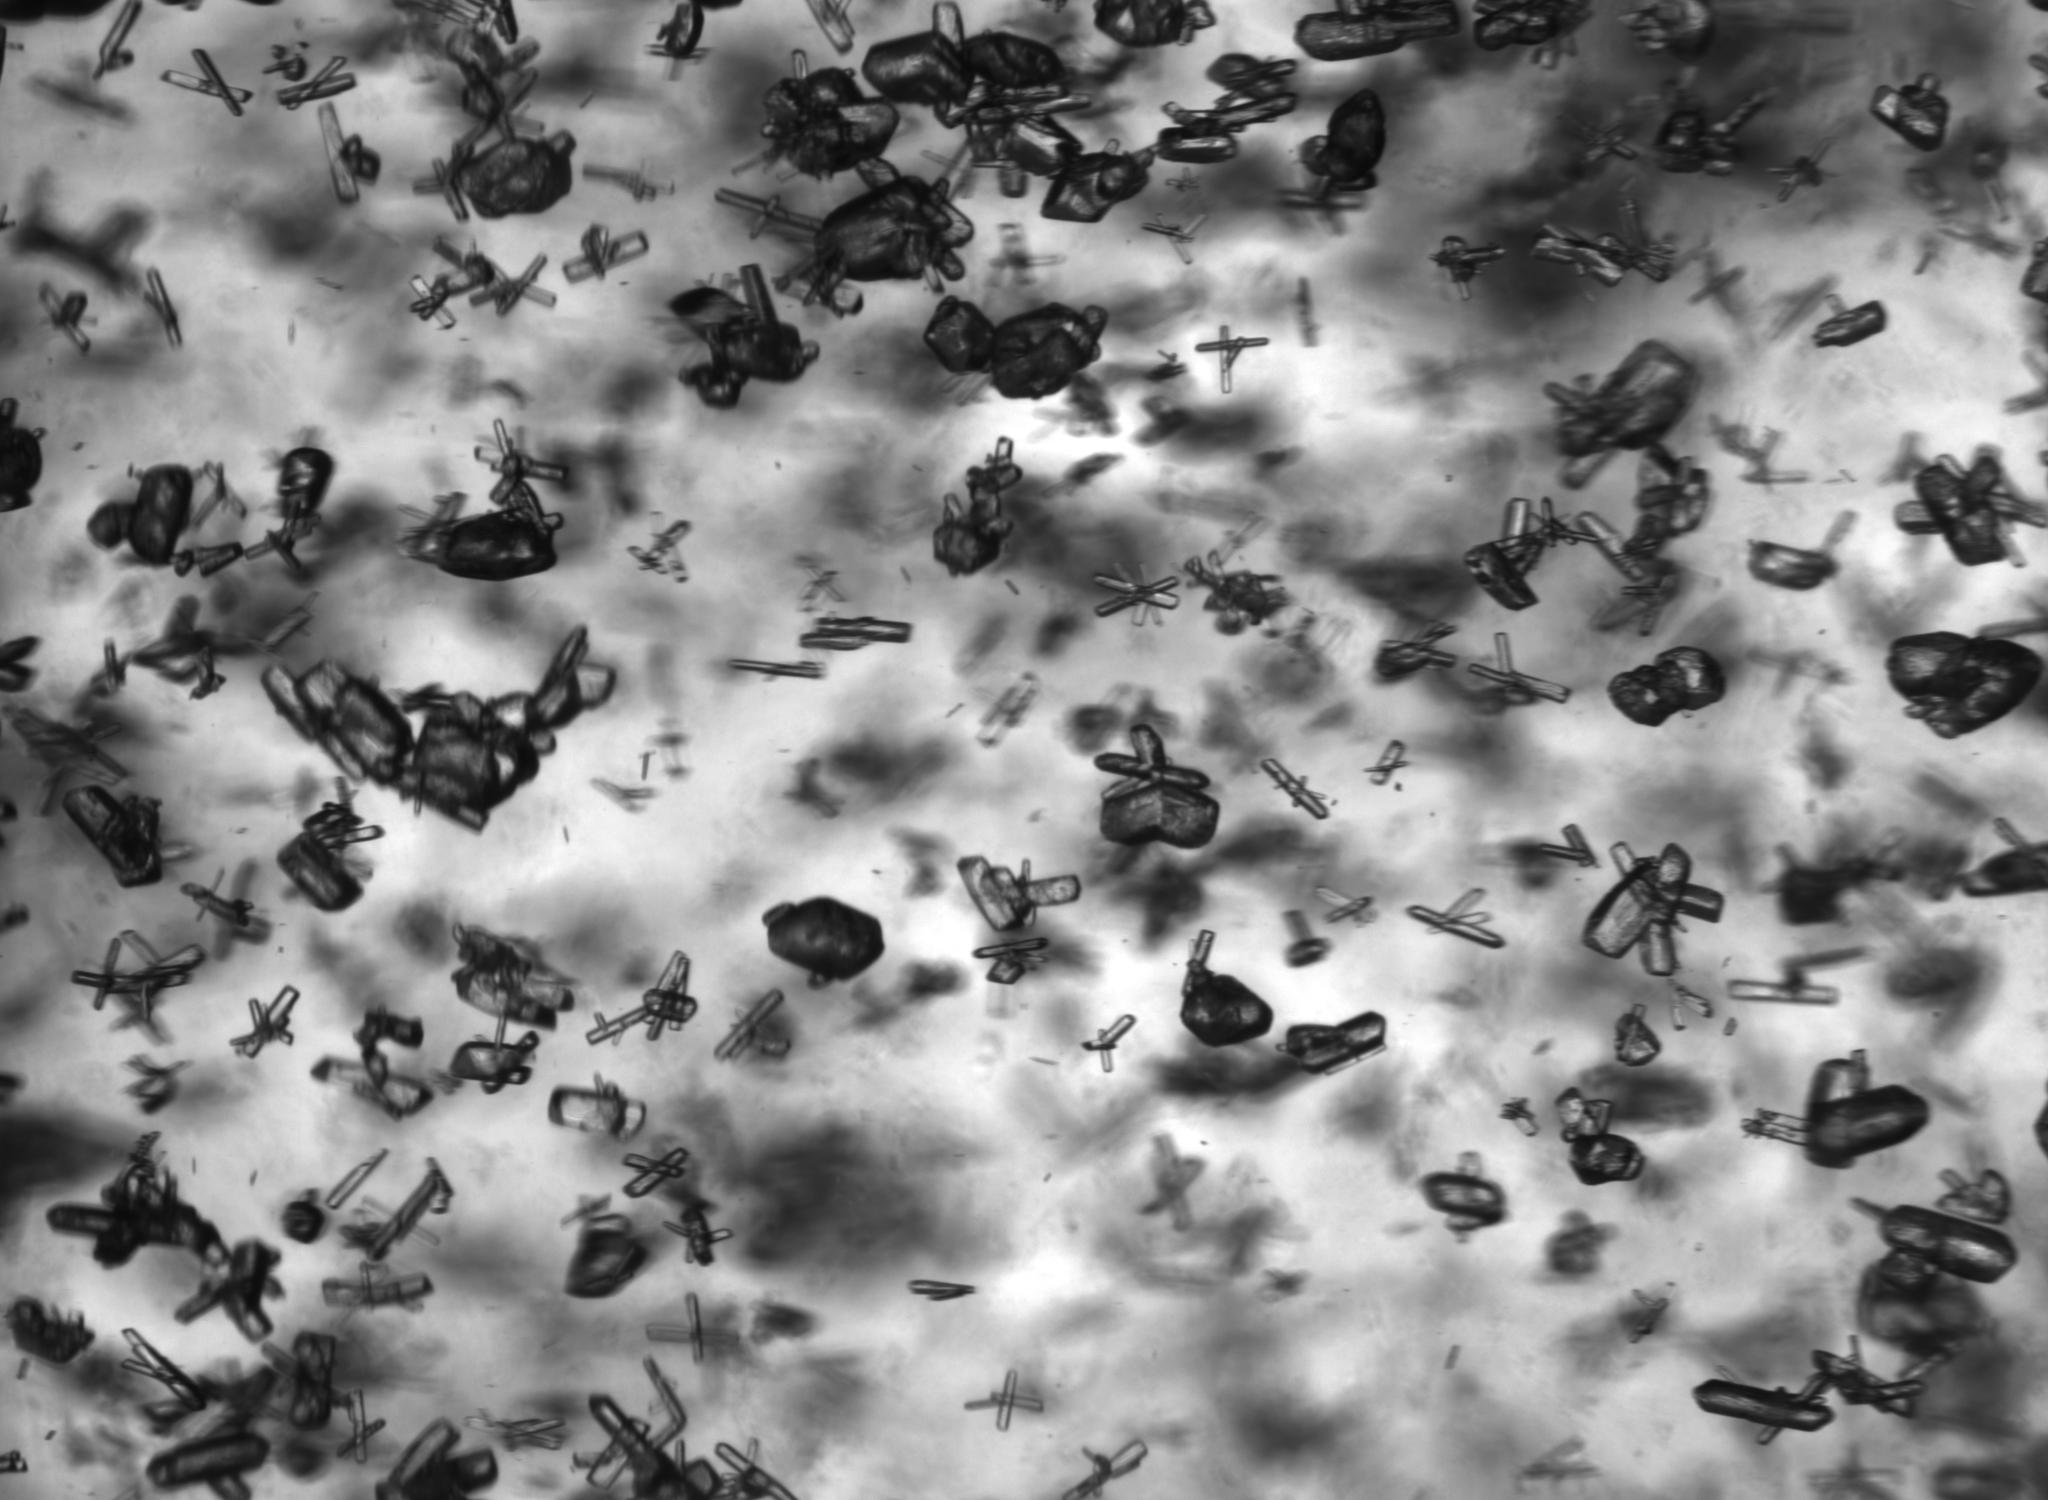crystal: (860, 5, 1296, 223), (262, 630, 612, 830), (49, 1134, 280, 1343), (572, 1355, 803, 1500), (396, 417, 571, 582), (776, 175, 973, 315), (1538, 336, 1698, 495), (1693, 1349, 1924, 1444), (1746, 1050, 1929, 1169), (669, 264, 817, 407), (762, 48, 906, 188), (1582, 843, 1725, 977), (1895, 449, 2048, 566), (924, 301, 1105, 399), (87, 464, 242, 576), (1886, 631, 2043, 738), (1094, 724, 1220, 849), (405, 234, 555, 331), (0, 705, 130, 813), (1531, 192, 1678, 288), (1464, 498, 1584, 611), (72, 926, 208, 1021), (129, 595, 254, 698), (1859, 1203, 2018, 1284), (452, 926, 576, 1029), (312, 1013, 432, 1118), (336, 1156, 455, 1260), (933, 437, 1021, 574), (447, 17, 537, 146), (278, 800, 382, 911), (250, 445, 334, 581), (375, 1414, 501, 1500), (1180, 931, 1272, 1047), (64, 783, 162, 889), (455, 132, 574, 220), (587, 951, 698, 1043), (763, 897, 884, 981), (1294, 0, 1460, 60), (1608, 646, 1725, 727), (261, 1330, 355, 1430), (956, 856, 1080, 931), (1299, 86, 1385, 191), (1555, 1086, 1644, 1185), (1655, 95, 1763, 175), (1185, 550, 1290, 631), (1630, 447, 1709, 549), (1463, 631, 1573, 705), (148, 1430, 273, 1492), (119, 1327, 208, 1411), (566, 1210, 649, 1301), (447, 1018, 541, 1094), (644, 1290, 739, 1365), (159, 48, 256, 118), (1278, 1012, 1385, 1074), (711, 186, 828, 242), (547, 1075, 646, 1141), (1406, 888, 1507, 950), (1870, 73, 1949, 151), (714, 988, 792, 1066), (320, 103, 380, 204), (1094, 0, 1215, 49), (1573, 507, 1650, 584), (1474, 0, 1590, 51), (1092, 560, 1180, 627), (6, 1298, 94, 1365), (1059, 1436, 1150, 1500), (229, 985, 301, 1059), (639, 2, 708, 80), (1425, 235, 1507, 299), (959, 1368, 1041, 1432), (563, 224, 649, 285), (1196, 324, 1267, 394), (1375, 619, 1460, 678), (1420, 1172, 1504, 1231), (1763, 137, 1835, 202), (663, 1207, 733, 1269), (37, 282, 92, 359), (1935, 1169, 2011, 1225), (973, 935, 1051, 989), (277, 57, 356, 110), (630, 517, 692, 584), (1261, 759, 1329, 819), (1747, 542, 1833, 590), (797, 617, 911, 652), (334, 1390, 388, 1463), (1137, 213, 1210, 267), (324, 1148, 388, 1209), (622, 1145, 690, 1199), (124, 1055, 186, 1113), (143, 264, 184, 352), (99, 0, 143, 78), (1811, 302, 1887, 347), (1612, 1002, 1662, 1069), (1081, 1013, 1134, 1074), (1728, 978, 1840, 1004), (1538, 824, 1596, 869), (1312, 884, 1375, 924), (806, 0, 854, 52), (1361, 738, 1407, 784), (728, 657, 822, 679), (283, 1198, 326, 1245), (264, 40, 308, 83), (910, 1280, 976, 1300)
